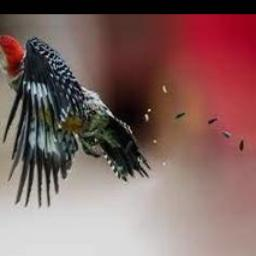Woodpecker: (0, 25, 150, 208)
